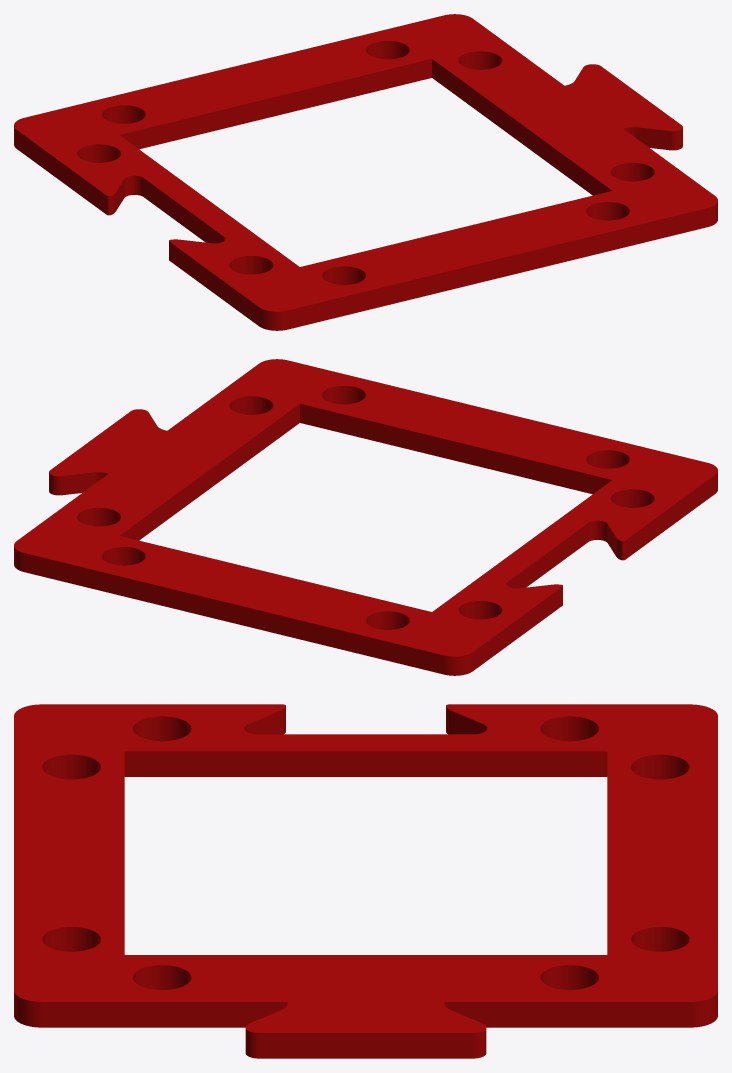
The model's file is V5_Interlinking Baseplate Pathed.obj.
The picture shows the model from 3 angles, top to bottom: view 1: azimuth 30°, elevation 25°; view 2: azimuth 150°, elevation 25°; view 3: azimuth 270°, elevation 25°; orthographic projection. The views are drawn at different scales.
Visible parts, largest first — view 1: Solid1:38; view 2: Solid1:38; view 3: Solid1:38.
Boxes of the visible parts, x1,y1,x2,y2 form: Solid1:38: (14,14,717,330); Solid1:38: (14,359,717,675); Solid1:38: (14,704,717,1058).
Size of the model in its own units: 54.92 by 2 by 49.75.
